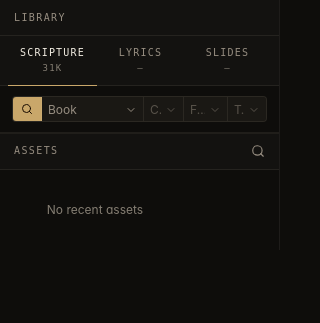
Test: LibraryPanel › shows announcements in Slides tab
Click the button "Slides —": (228, 61) [184,36,271,86]
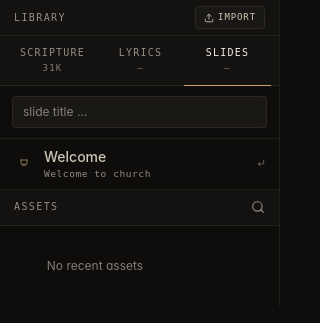
Expected: the text "Welcome" is shown, [44,148,106,165]
